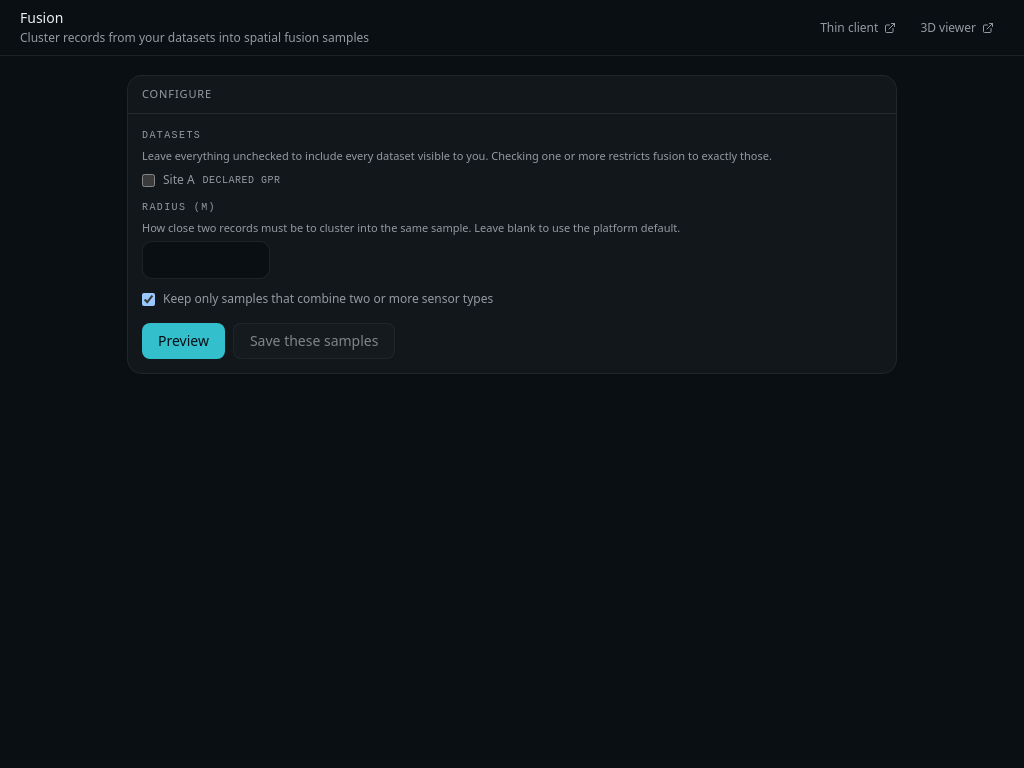
Test case: preview › shows an absence, not an empty list, when nothing fused
Expected: the text "Site A" is shown, [163,172,195,188]
Click the button "Preview": (183, 341) [142,323,225,359]
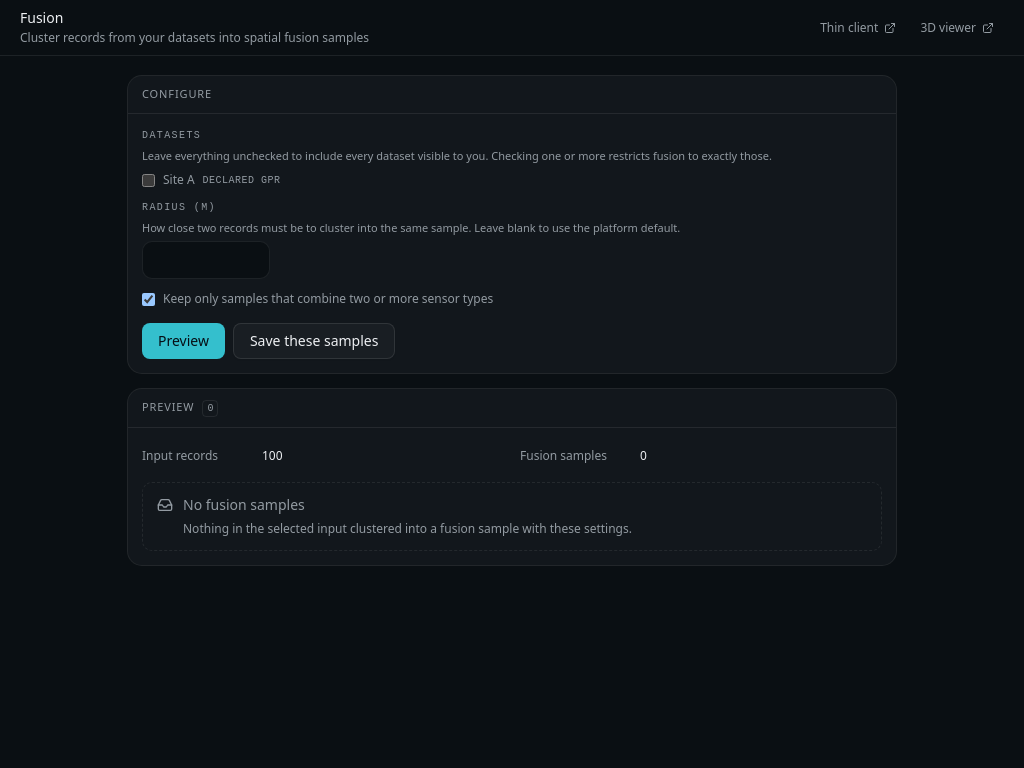
Now the text "No fusion samples" is shown, box [183,495,305,514]
